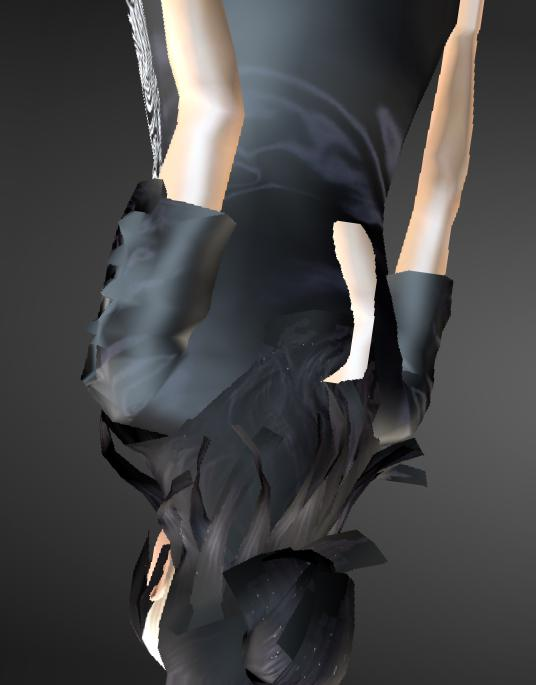clip: (329, 205, 389, 318)
